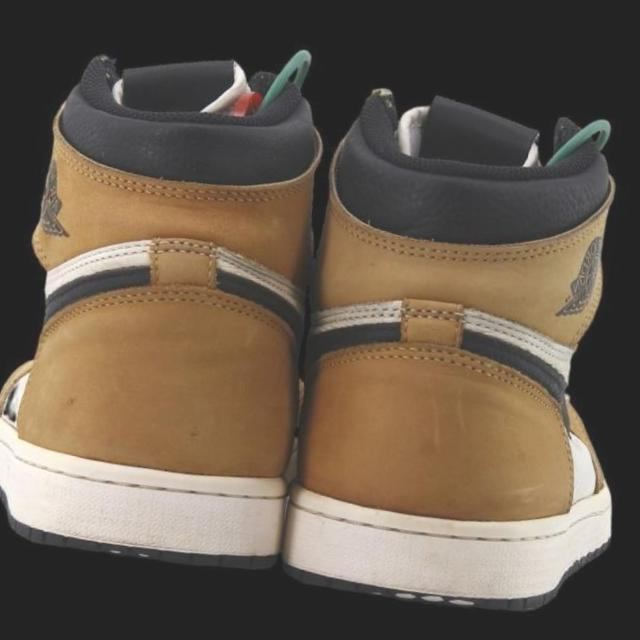nike_original_jordan: (0, 37, 351, 580)
